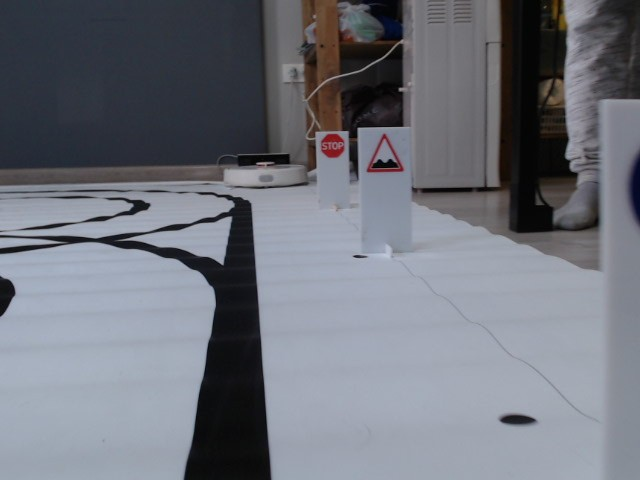Nerov: (363, 134, 407, 176)
Stop: (319, 133, 348, 159)
